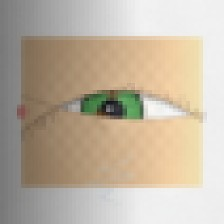foreign_body_visible: (99, 81, 127, 103)
